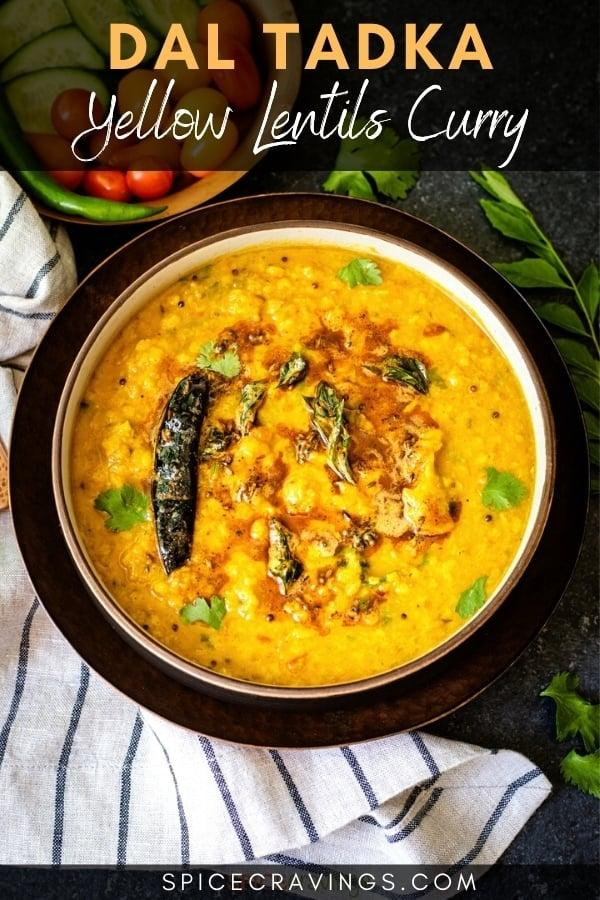daal: (70, 233, 539, 692)
